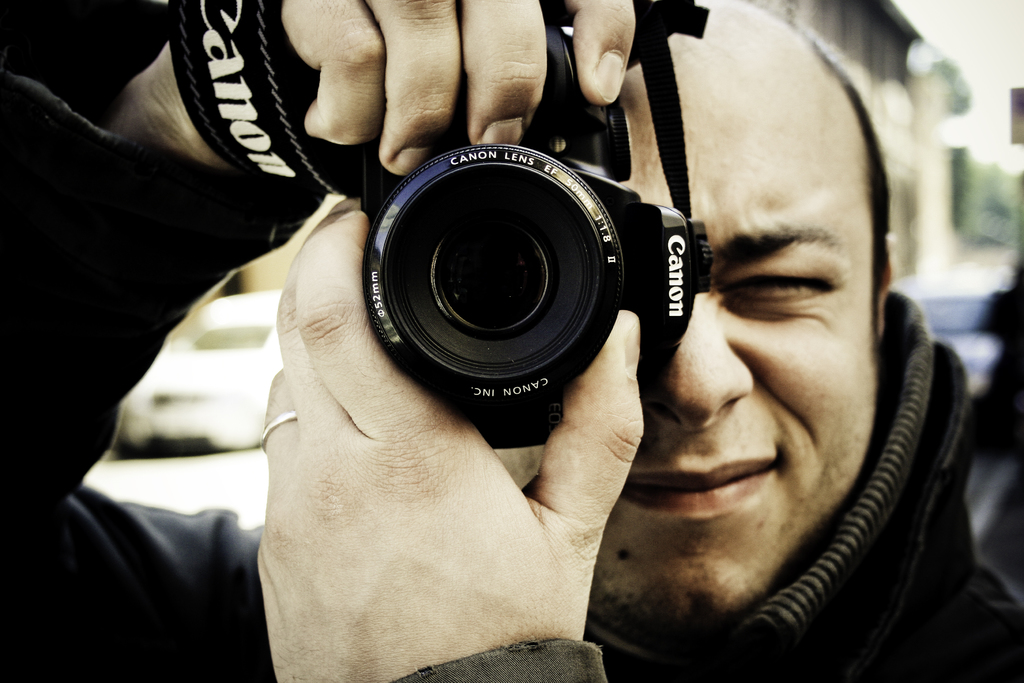Human-face: (602, 54, 872, 623)
